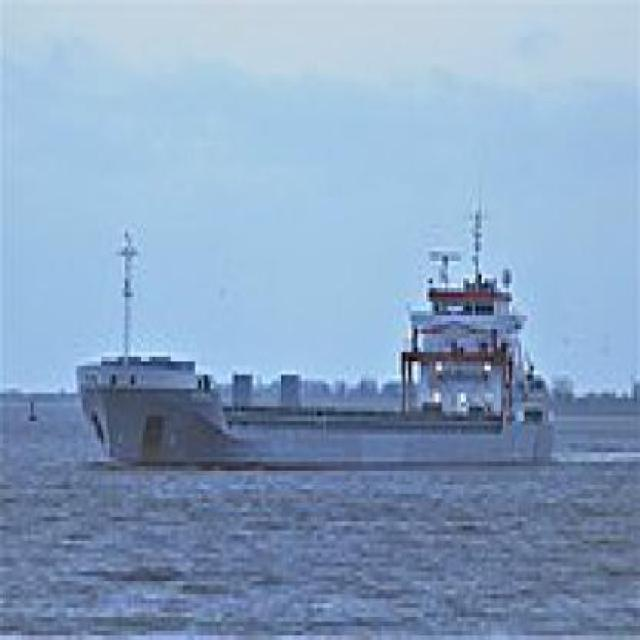container: (68, 175, 565, 486)
